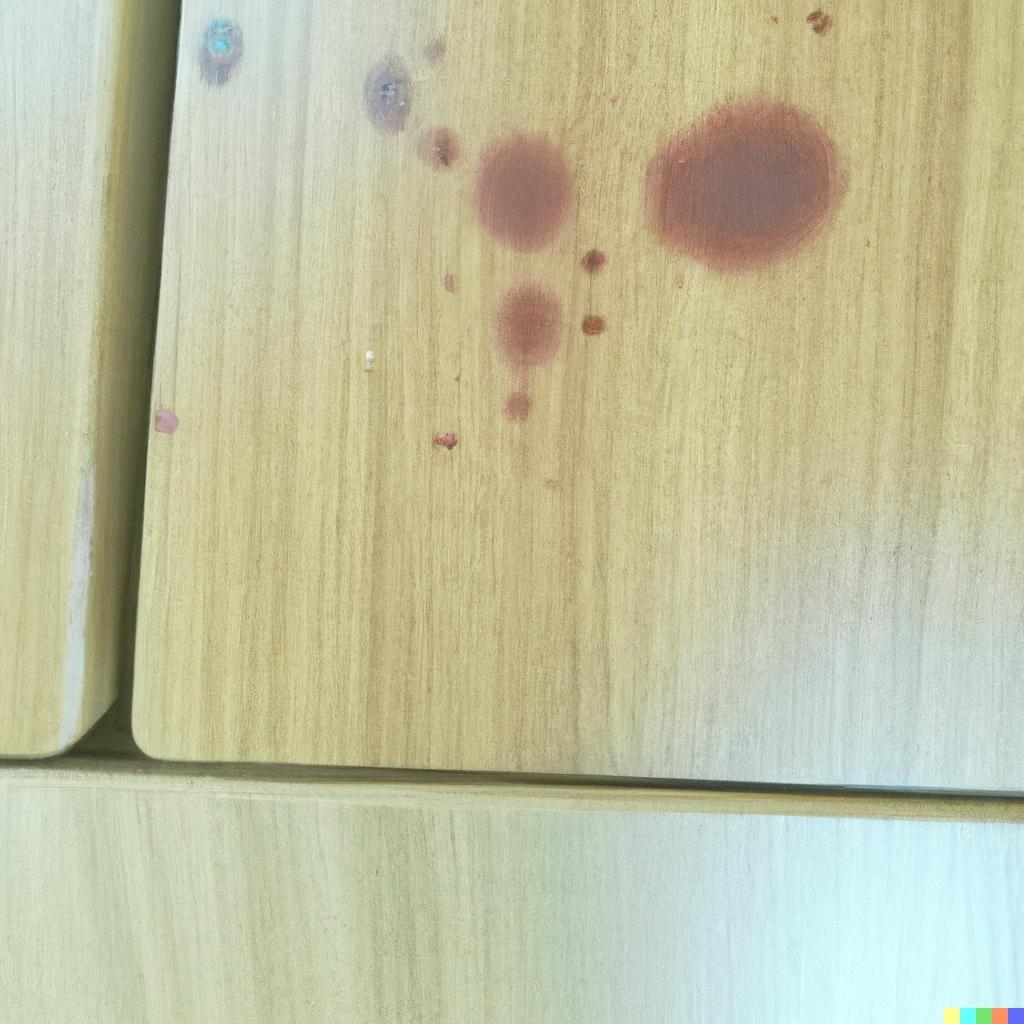Bloodstain-Detection: (668, 140, 806, 248), (478, 152, 571, 246), (494, 286, 558, 368)
